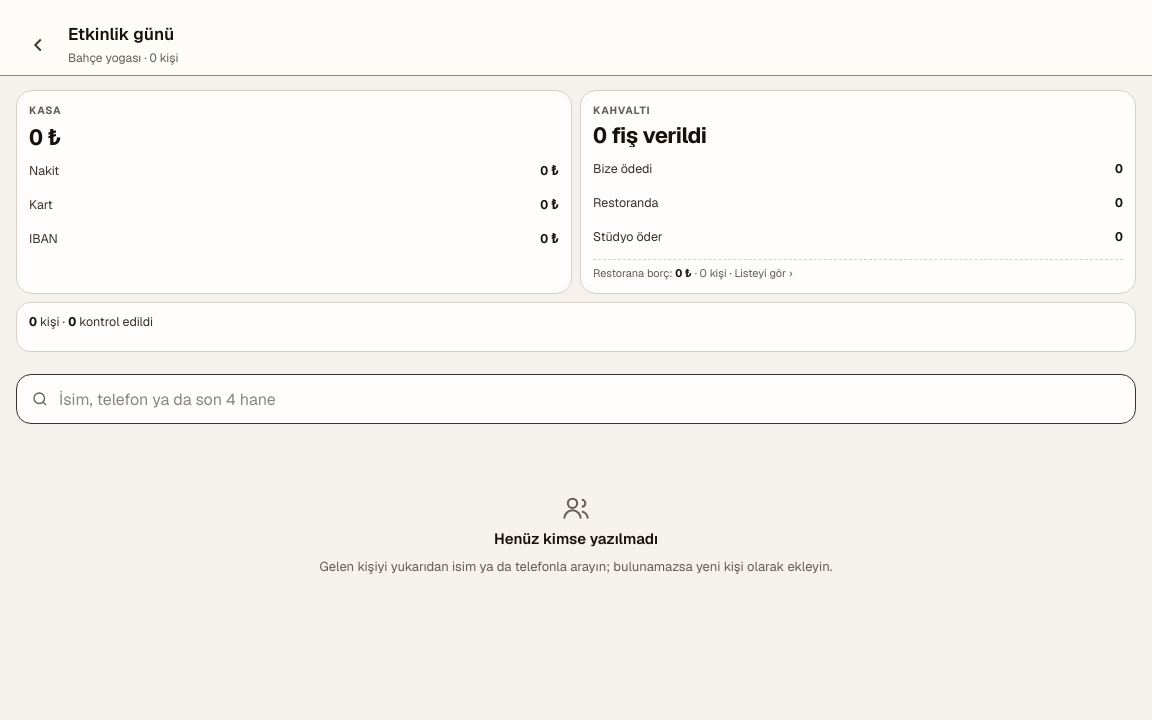
Scenario: MobileEventDay › beklenenden fazla tutar girilince uyarır ama kaydı engellemez (kısmi ödeme serbest kalır)
Type "Fazla Ödeyen" into the field named "Kişi ara" at (593, 399), box [57,376,1129,422]
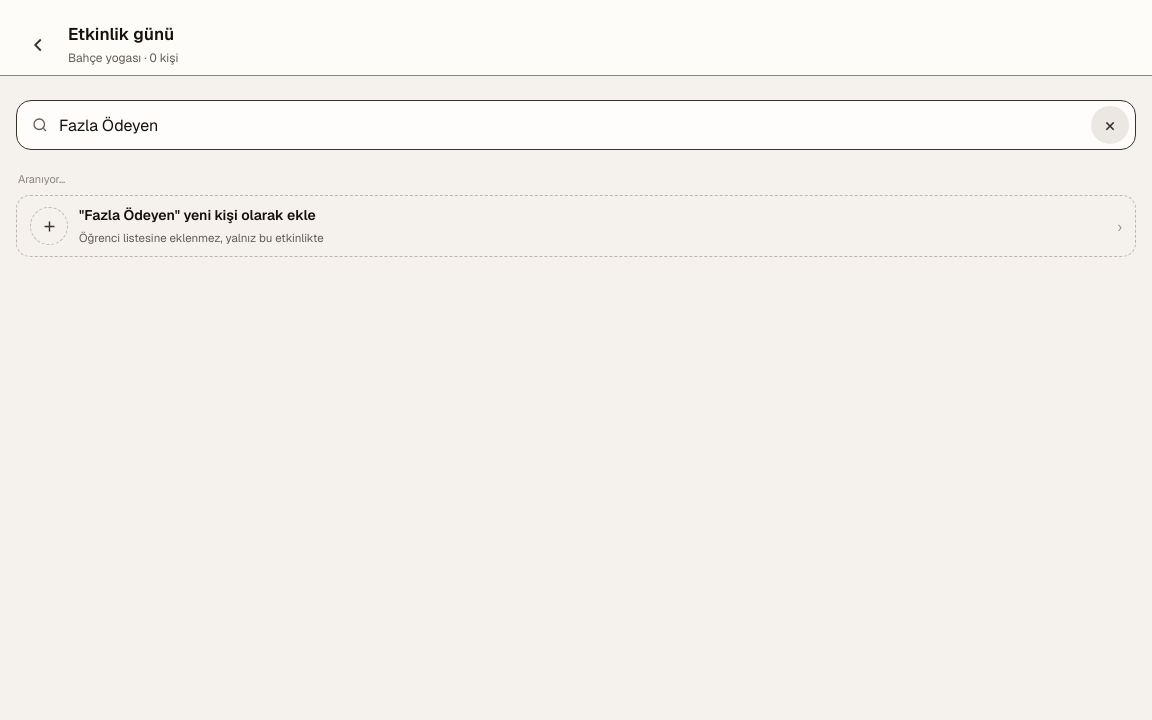
Click the button that starts with "\"Fazla Ödeyen\" yeni kişi olarak ekle" at (49, 226), box [16,195,1136,257]
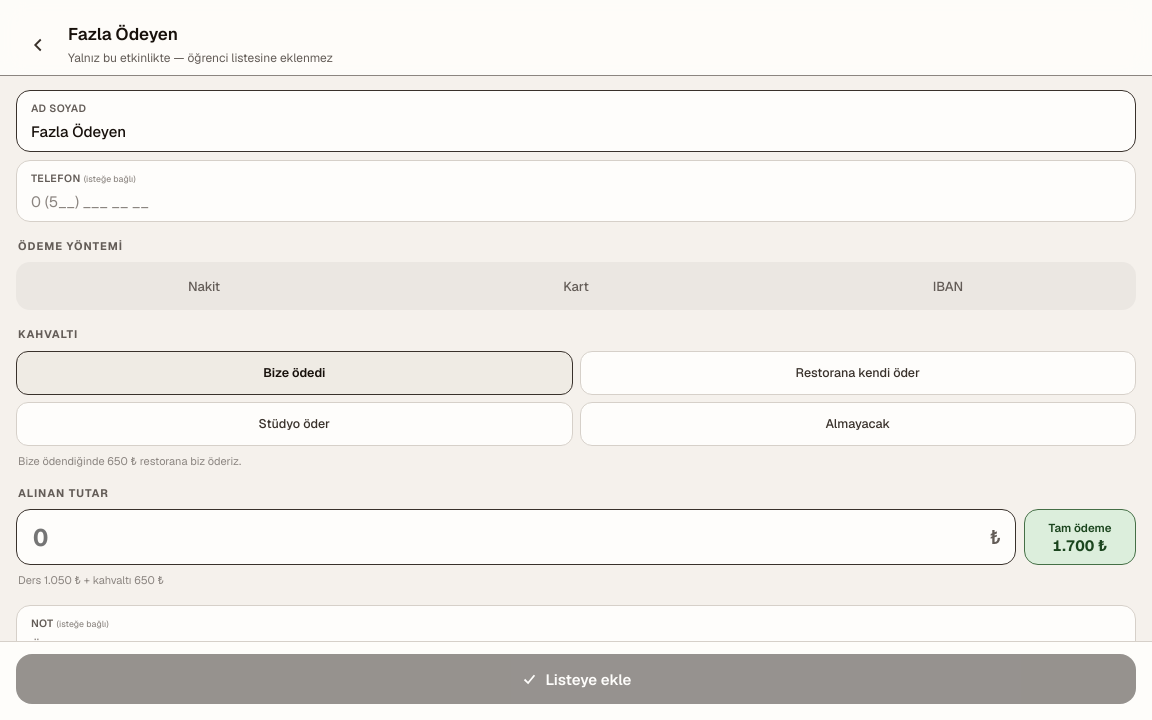
Click the button "Nakit" at (204, 286), box [20,266,388,306]
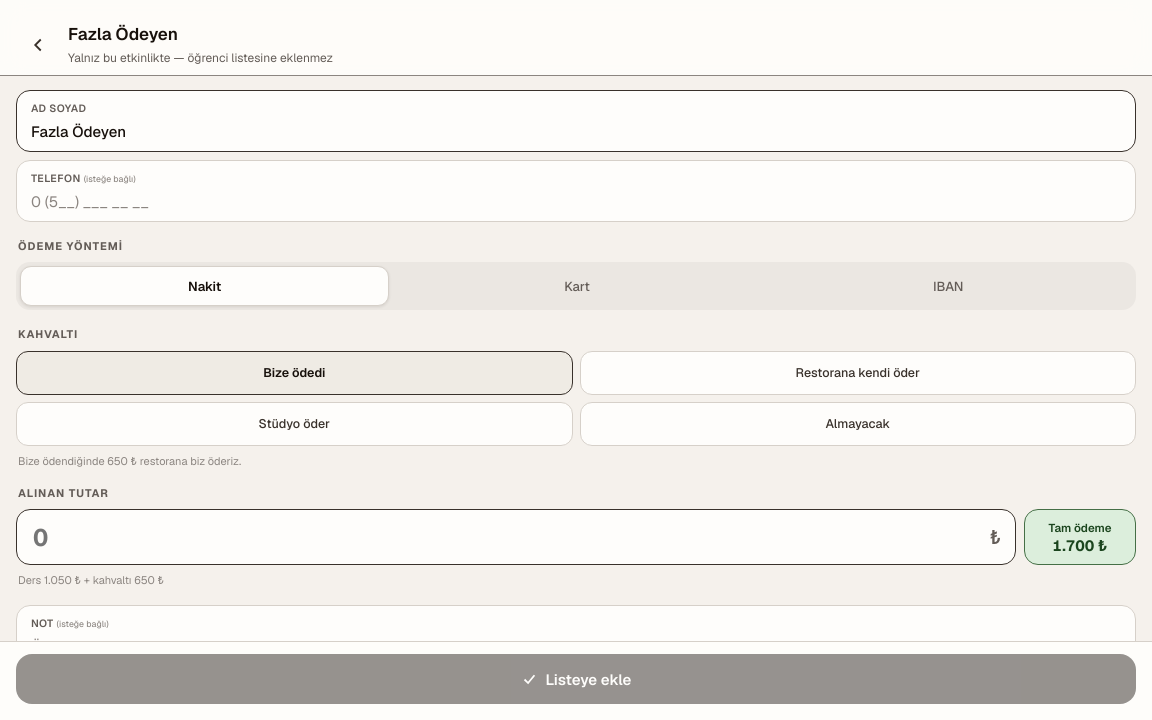
Type "1800" into the field named "Alınan tutar" at (507, 537), box [31,521,984,554]
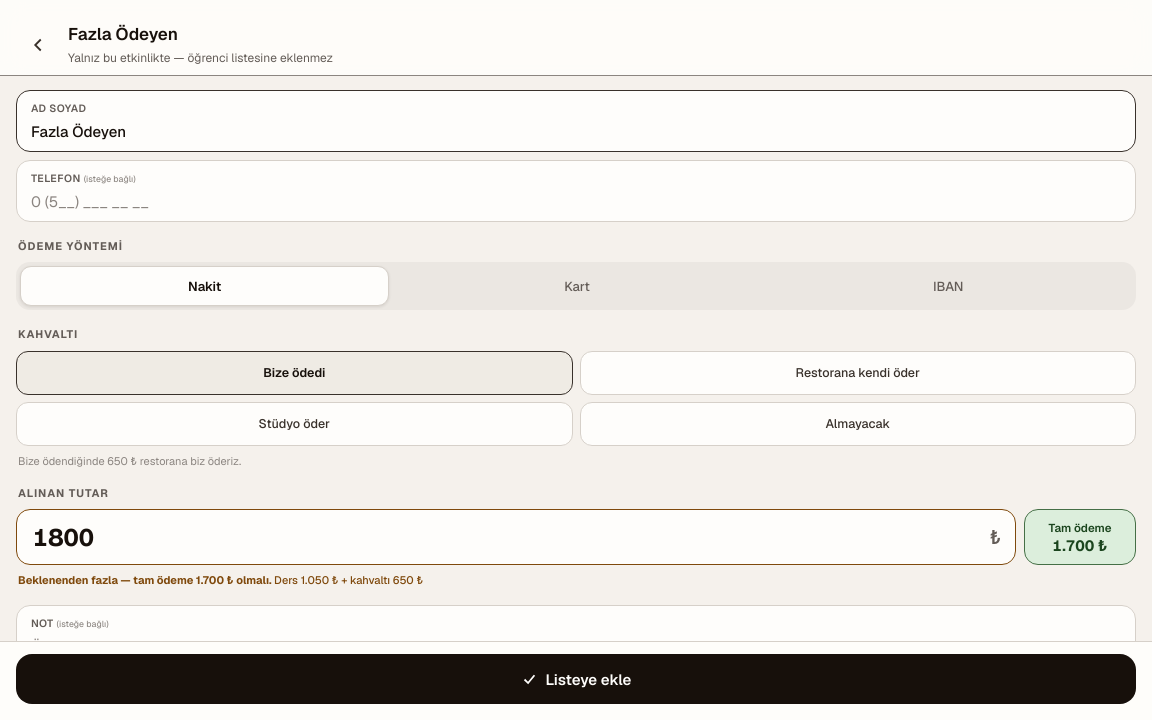
Expected: the text "Beklenenden fazla — tam ödeme 1.700 ₺ olmalı." is shown, [18,573,274,587]
Expected: the button "Listeye ekle" is enabled, [16,654,1136,704]
Replace the text in the field named "Alınan tutar" with "500" at (507, 537), box [31,521,984,554]
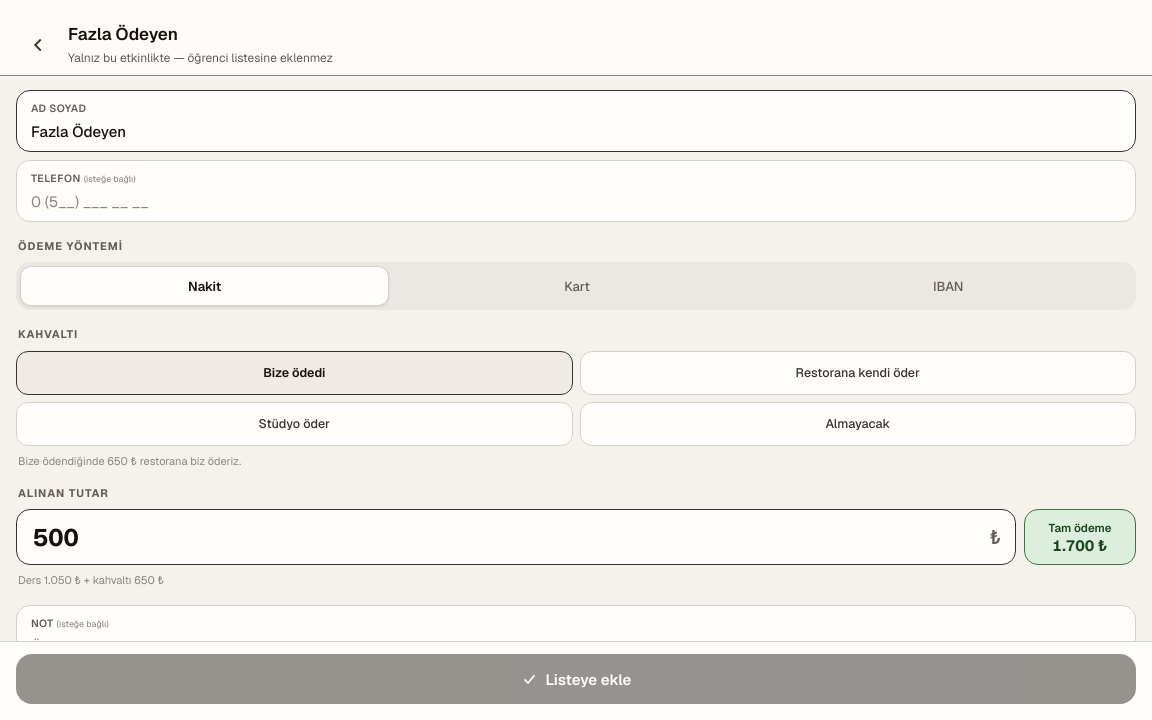
Expected: the text "Beklenenden fazla" is gone
